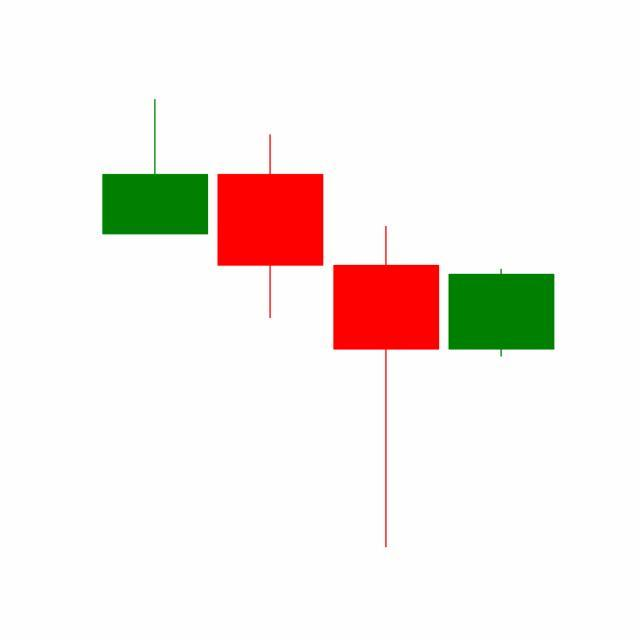Marubozu: (444, 268, 560, 358)
